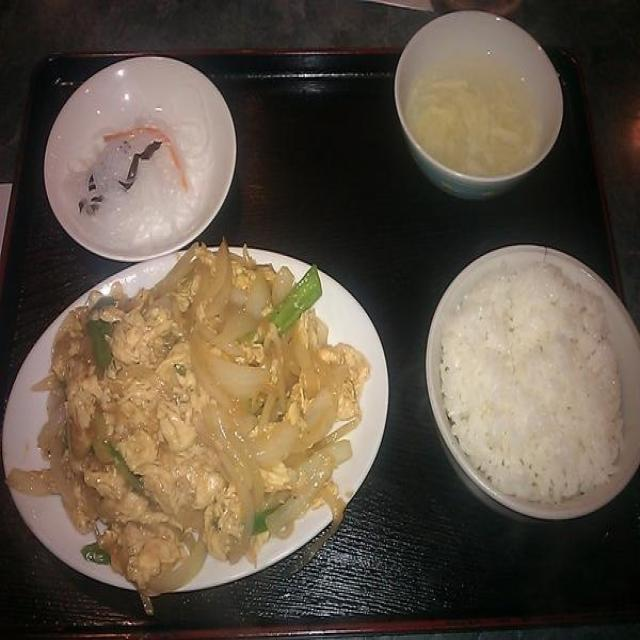Rice: (440, 254, 633, 493)
